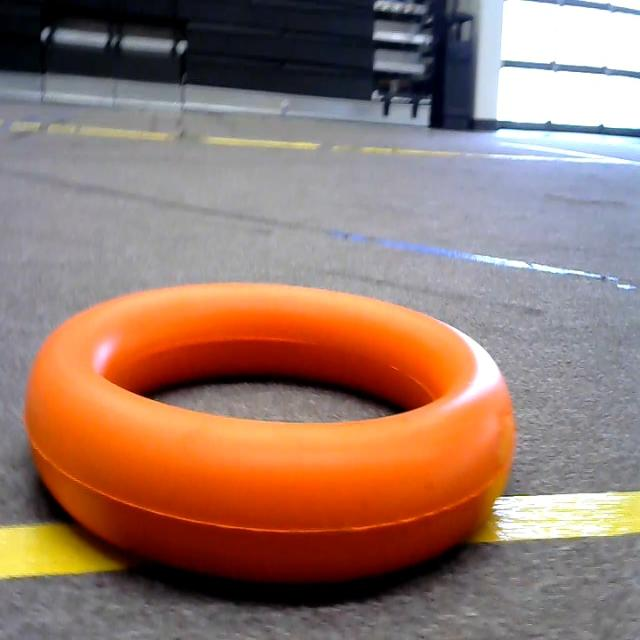note: (13, 275, 537, 593)
